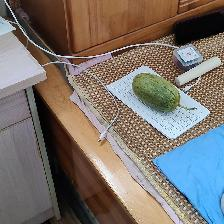gua: (129, 73, 178, 114)
